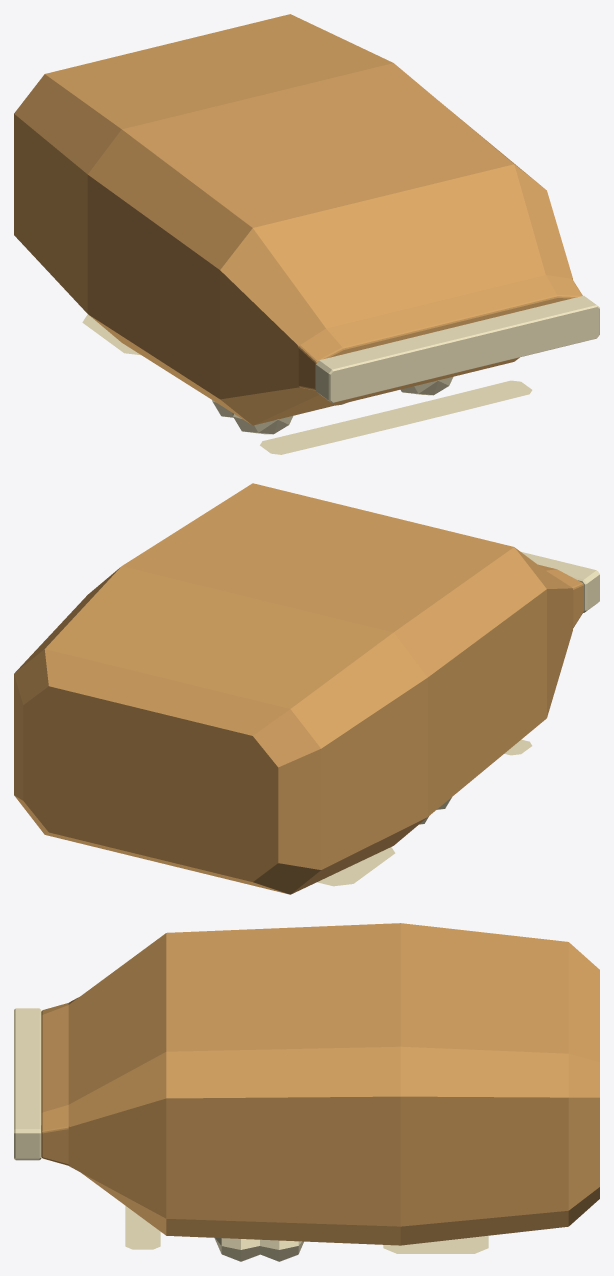
Rendered from pet_treats.glb.
3 views of the same model, one above another, from view 1: azimuth 30°, elevation 25°; view 2: azimuth 150°, elevation 25°; view 3: azimuth 270°, elevation 25° (orthographic). The views are drawn at different scales.
Visible parts, largest first — view 1: pet_treats; view 2: pet_treats; view 3: pet_treats.
Part boxes in pixels (<box>): pet_treats: <box>14,14,599,454</box>; pet_treats: <box>14,483,599,894</box>; pet_treats: <box>14,923,599,1261</box>.
Size of the model in its own units: 0.0936 by 0.0673 by 0.15.
